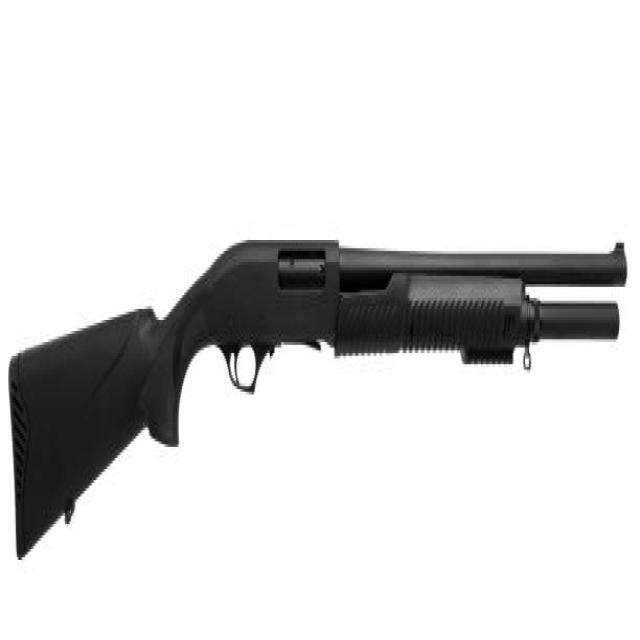rifle: (10, 227, 628, 563)
